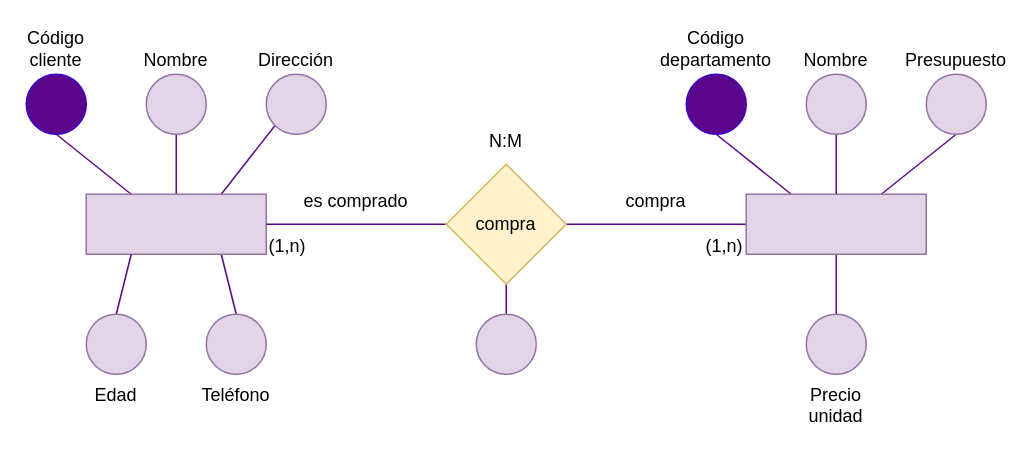
Image size: 1032x453. Some labels were removed from this diagram. Here are the shapes that lost their labels. From the top down, the centre of each, then its label:
At (175,223): "Cliente".
At (835,223): "Producto".
At (505,343): "Cantidad".
